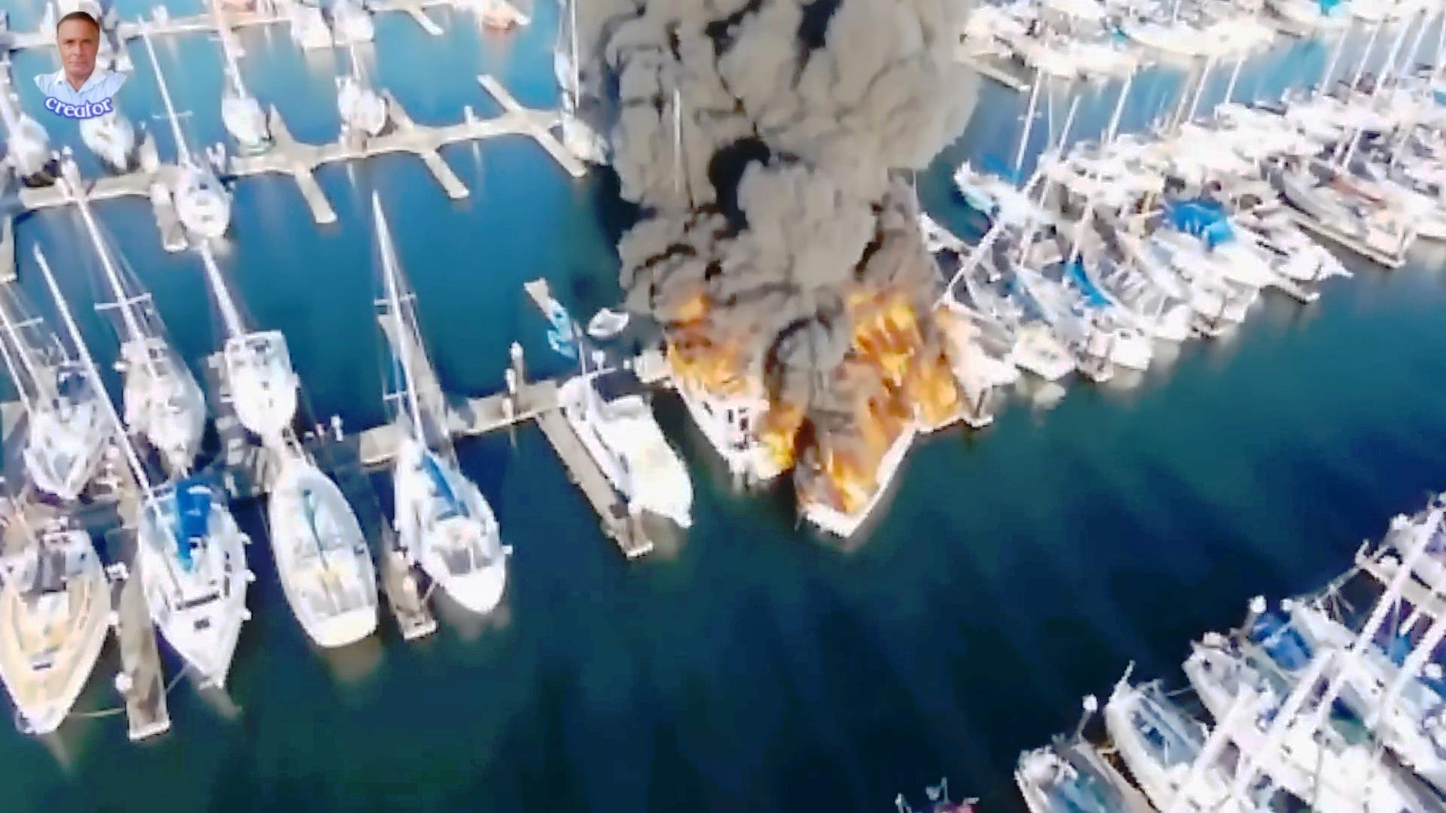fire: (859, 281, 954, 407), (667, 303, 739, 404), (840, 419, 895, 510)
smoke: (644, 8, 932, 286), (592, 6, 963, 180), (742, 22, 853, 399)
